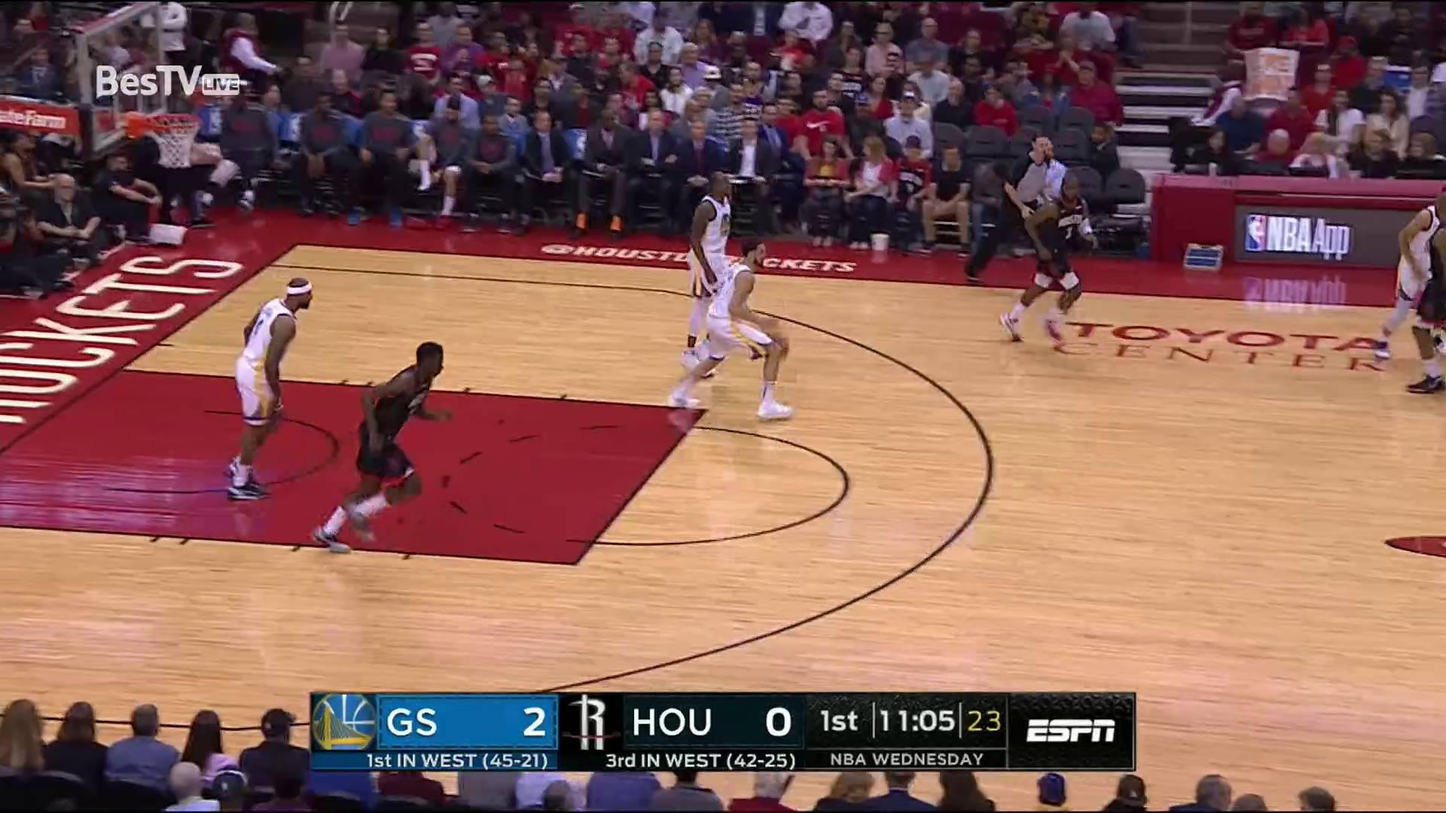basketball: (764, 331, 789, 356)
